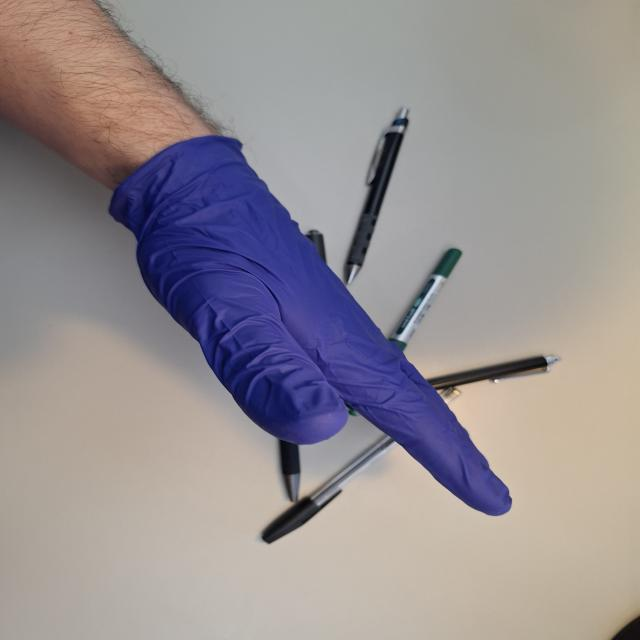glove_on: (107, 133, 516, 519)
